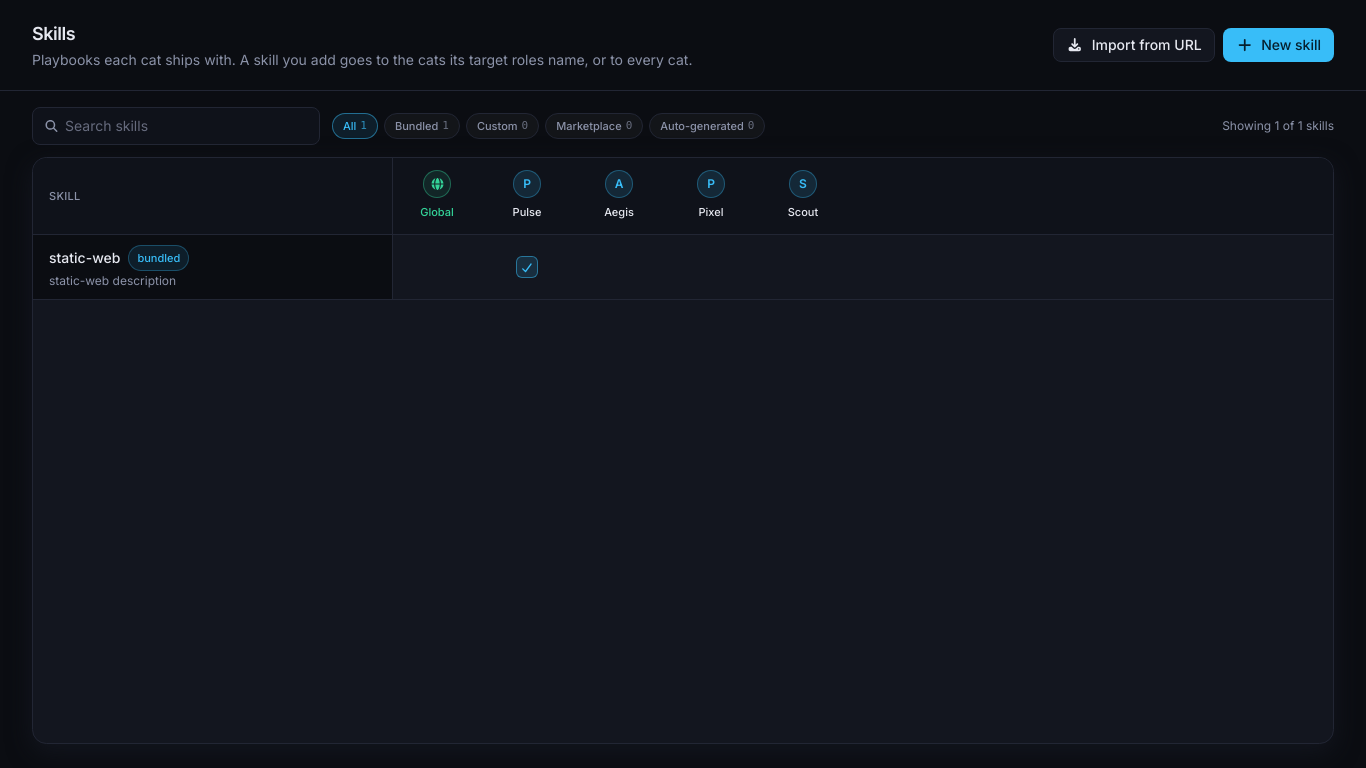
Test: SkillsPage bundle playbooks › says in the drawer which cats it is built into
Click the button with aria-label "Open static-web". click: (85, 258)
box: x1=49 y1=245 x2=376 y2=289
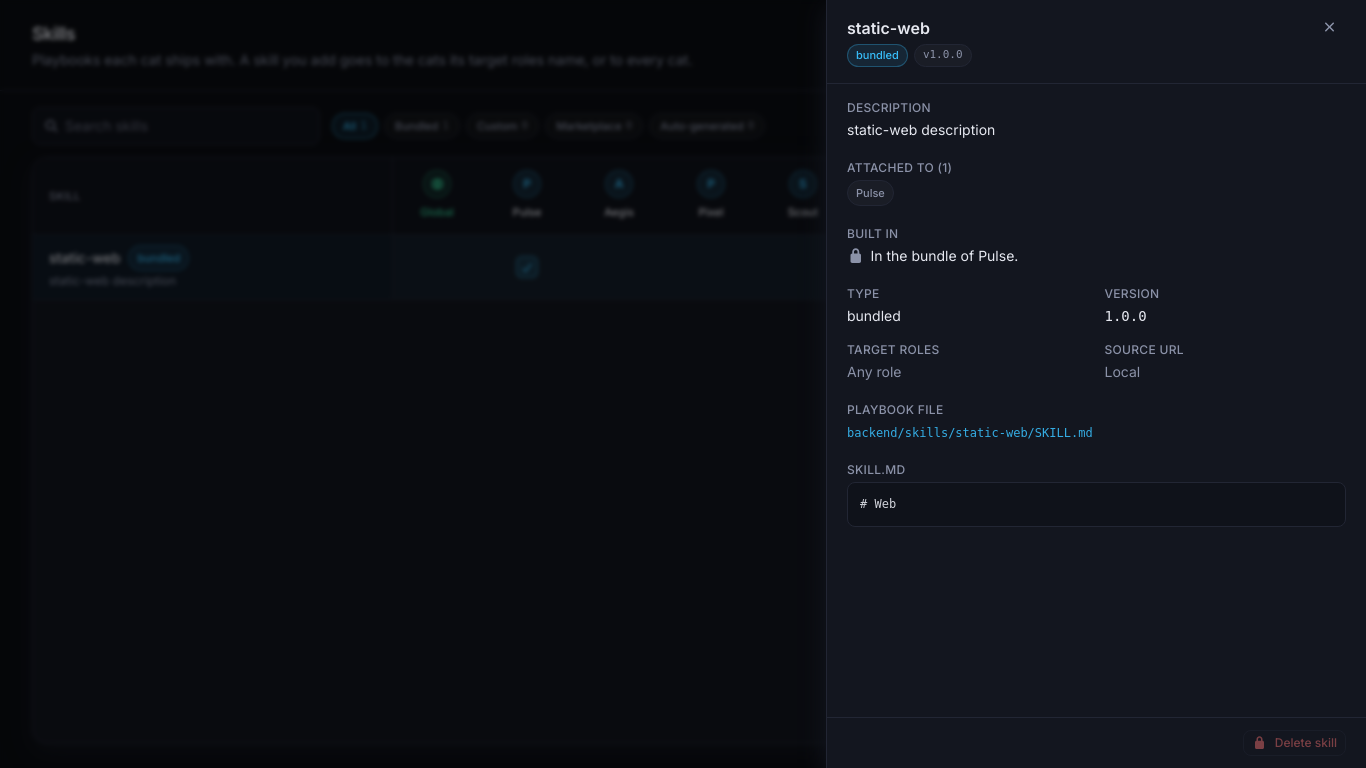
Expected: the text "In the bundle of Pulse." is shown, x1=847 y1=246 x2=1018 y2=264
